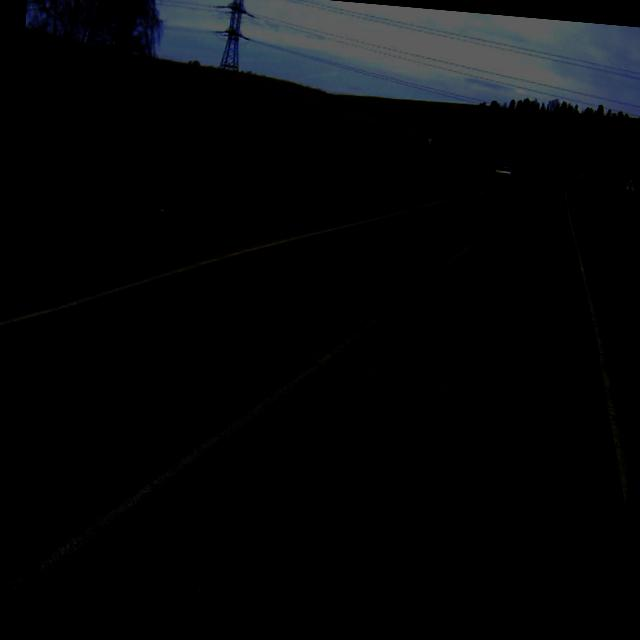road: (0, 171, 628, 640)
